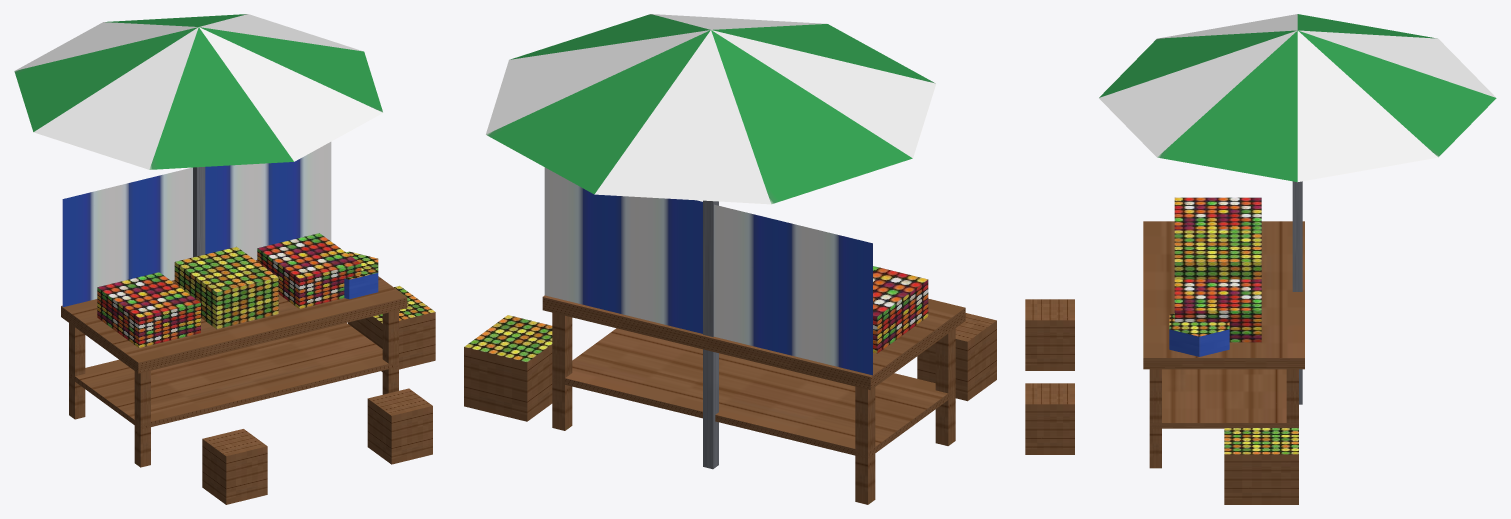
Rendered from stall-blue-far.glb.
3 views of the same model, side by side, from view 1: azimuth 30°, elevation 25°; view 2: azimuth 150°, elevation 25°; view 3: azimuth 270°, elevation 25° (orthographic). The views are drawn at different scales.
Visible parts, largest first — view 1: stall-blue-far; view 2: stall-blue-far; view 3: stall-blue-far.
Part boxes in pixels (x1,y1,x2,y2): stall-blue-far: (14,14,435,504); stall-blue-far: (464,14,996,504); stall-blue-far: (1025,14,1496,504).
Bounding box in the file's own units: 3.55 × 3.3 × 3.79.
1 material, 1 textured.
